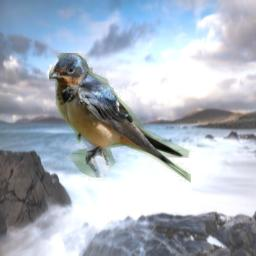Swallow: (49, 53, 191, 183)
